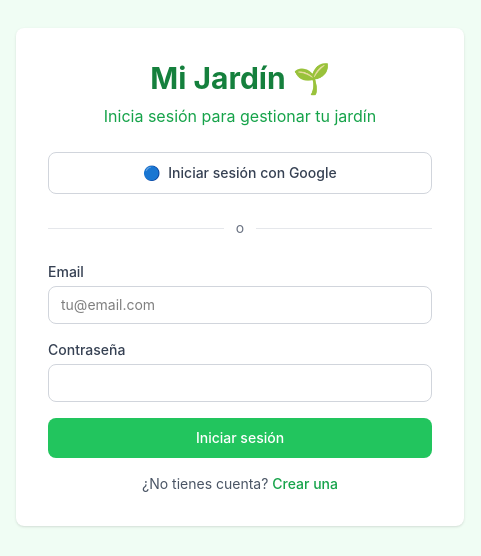
Login › shows validation error for short password in signup mode
Click the button "Crear una" at (305, 484), box [272,474,338,494]
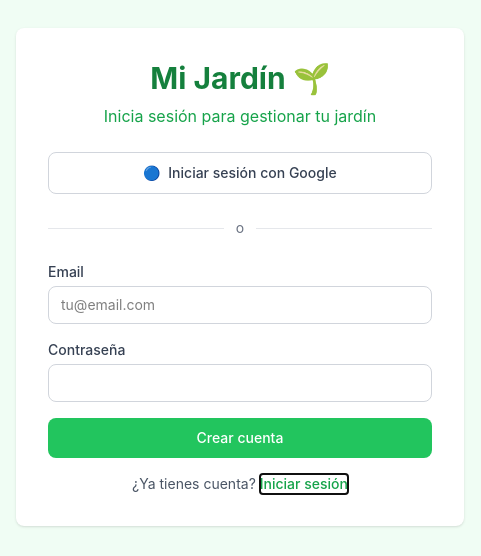
Type "test@example.com" into the field labelled "Email" at (240, 305), box [48,286,432,324]
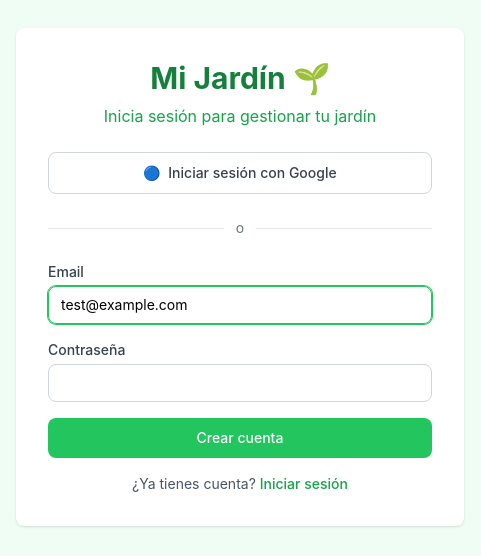
Type "12345" into the password field labelled "Contraseña" at (240, 383), box [48,364,432,402]
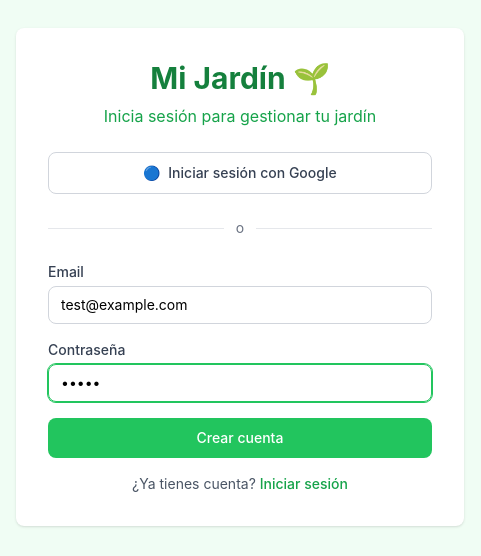
Click the button "Crear cuenta" at (240, 438), box [48,418,432,458]
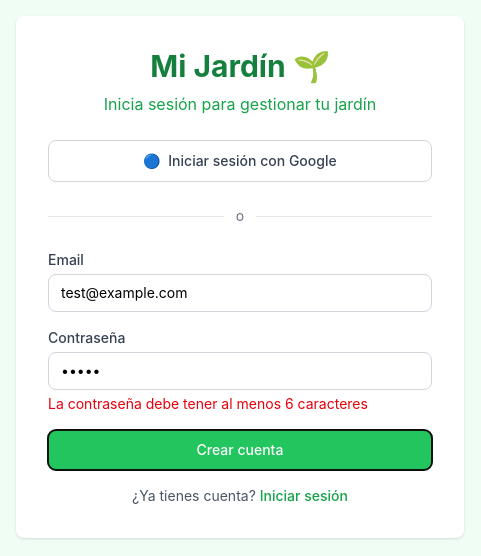
Now the text "La contraseña debe tener al menos 6 caracteres" is shown, box [48,395,368,412]
